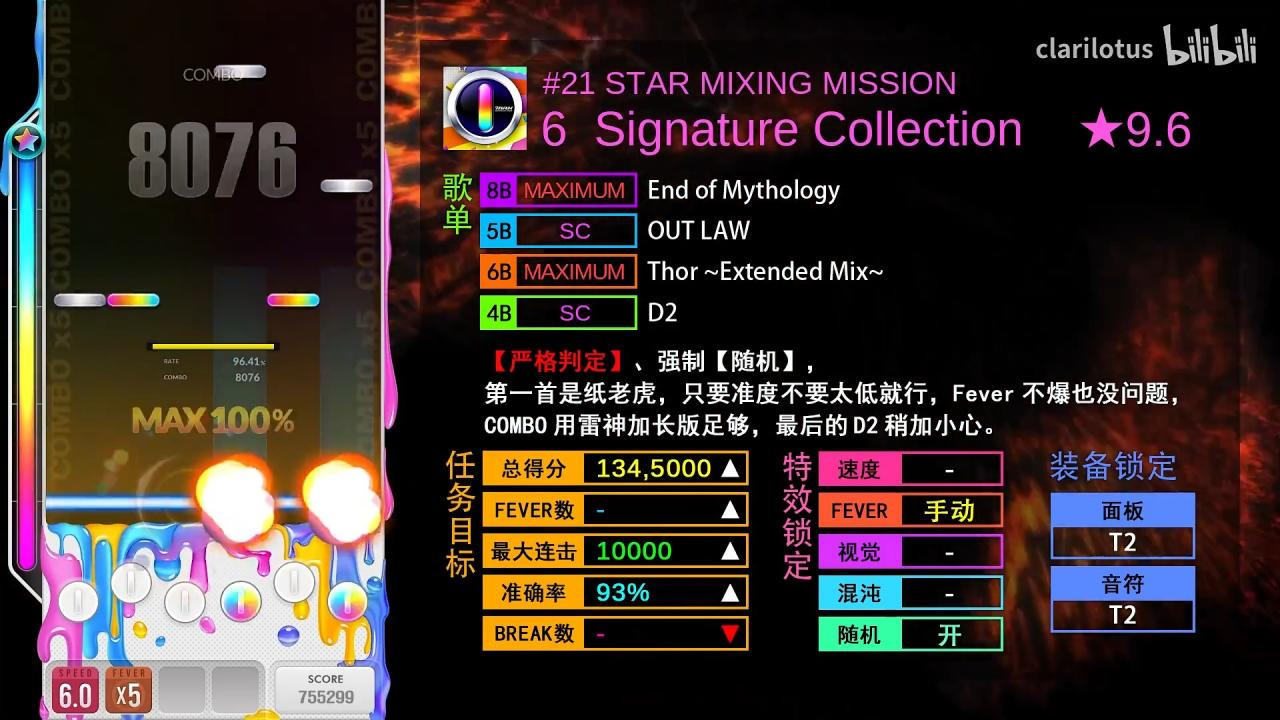note: (214, 64, 267, 79), (106, 293, 160, 307), (321, 179, 373, 193), (54, 293, 106, 307), (268, 293, 320, 307)
